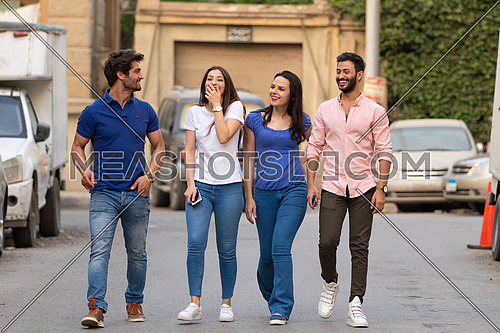face: (102, 48, 146, 95), (267, 68, 303, 113), (333, 50, 367, 95), (199, 64, 232, 104)
